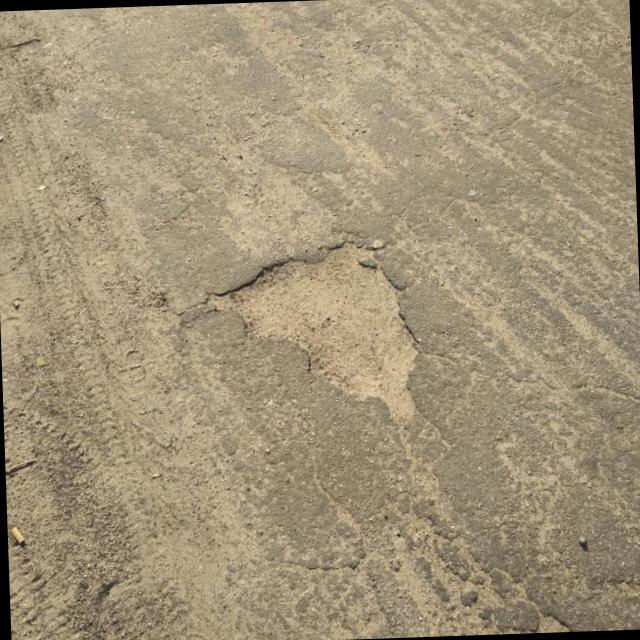Lubang: (212, 244, 416, 425)
